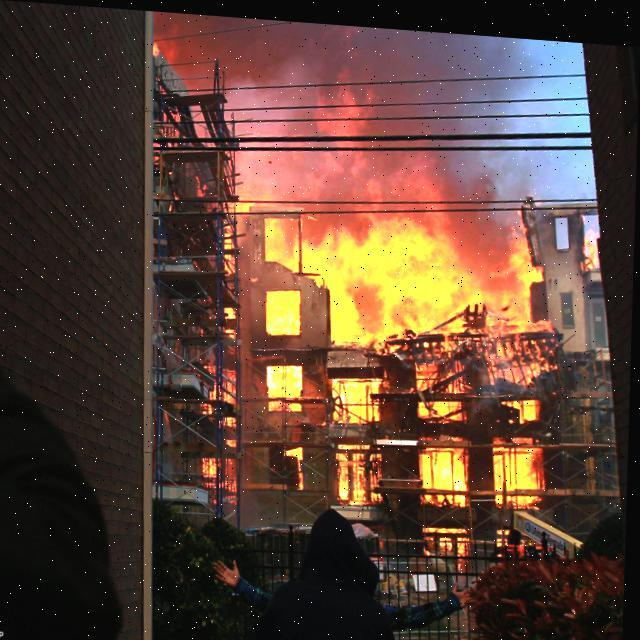Fire: (241, 172, 578, 565)
